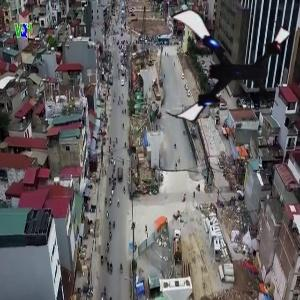drone: (161, 10, 287, 136)
